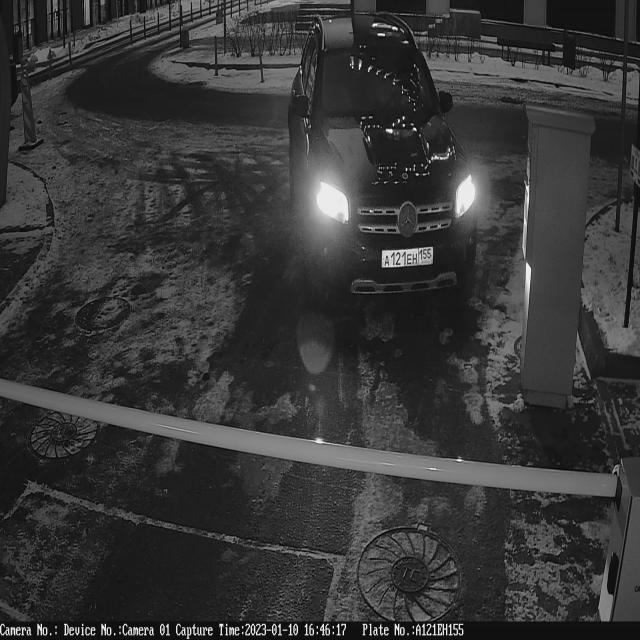car-plate-numbers: (381, 245, 437, 276)
